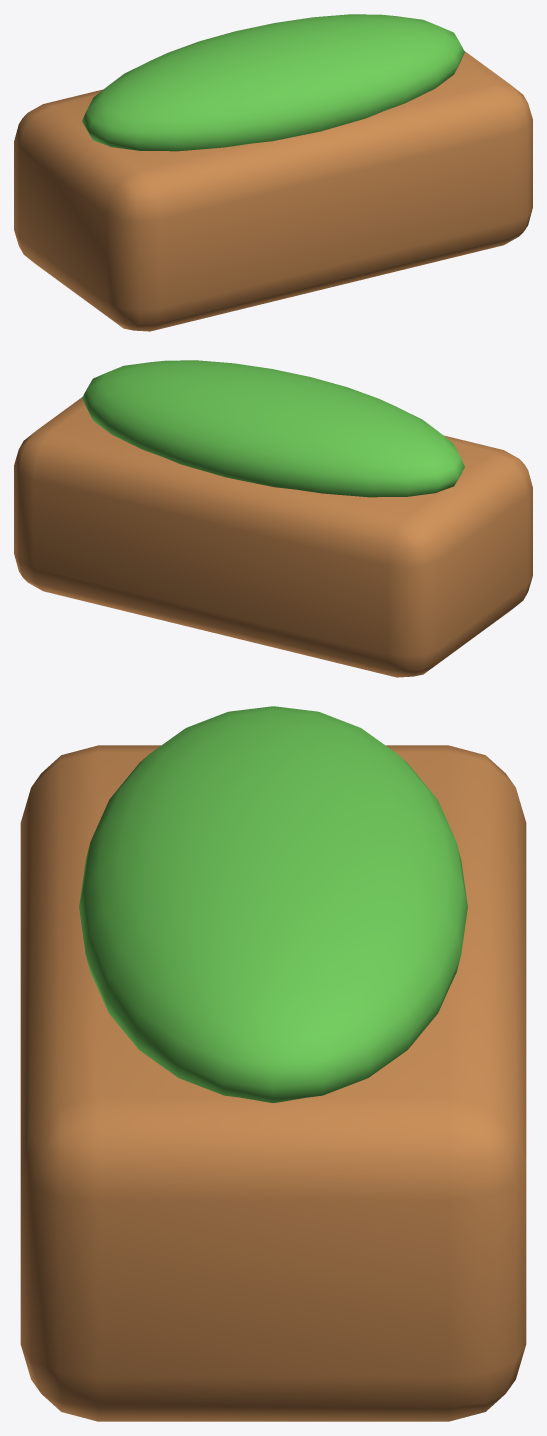
File: icon_fill.glb
The picture shows the model from 3 angles, top to bottom: view 1: azimuth 30°, elevation 25°; view 2: azimuth 150°, elevation 25°; view 3: azimuth 270°, elevation 25°; orthographic projection. The views are drawn at different scales.
Parts seen in each view (by area): view 1: icon_fill; view 2: icon_fill; view 3: icon_fill.
Part boxes in pixels (bbox=[...]): icon_fill: bbox=[14, 14, 532, 331]; icon_fill: bbox=[14, 360, 532, 677]; icon_fill: bbox=[20, 706, 526, 1421].
Bounding box in the file's own units: 0.5 × 0.24 × 0.26.
